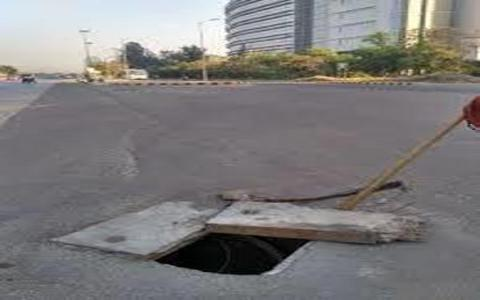open manhole: (139, 218, 334, 281)
